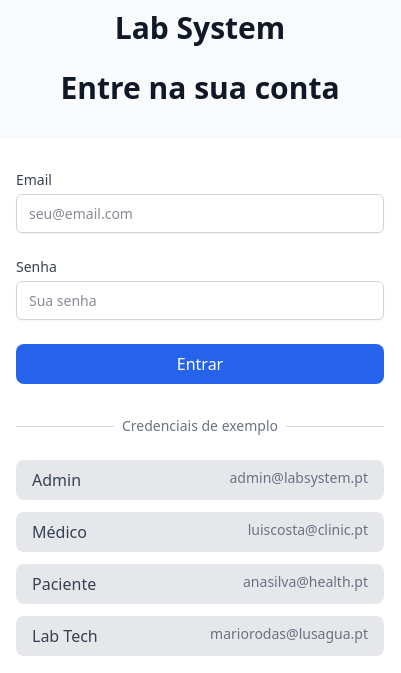
Login › fills form when clicking example credentials
The width and height of the screenshot is (401, 673).
Click the button "Admin admin@labsystem.pt" at x=57, y=480, box left=16, top=460, right=384, bottom=500
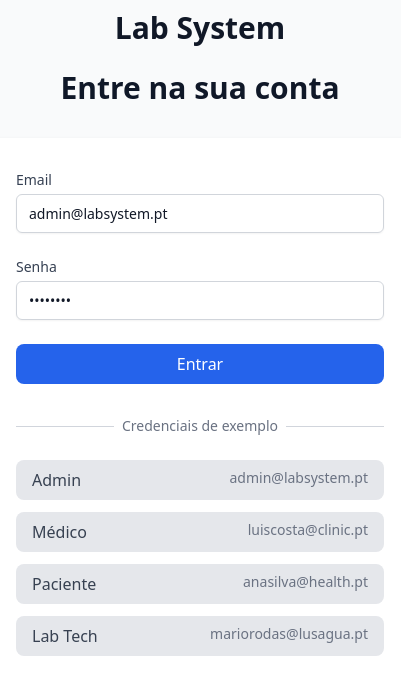
Check: the field labelled "Email" holds "admin@labsystem.pt", box left=16, top=194, right=384, bottom=233
Check: the password field labelled "Senha" holds "admin123", box left=16, top=281, right=384, bottom=320
